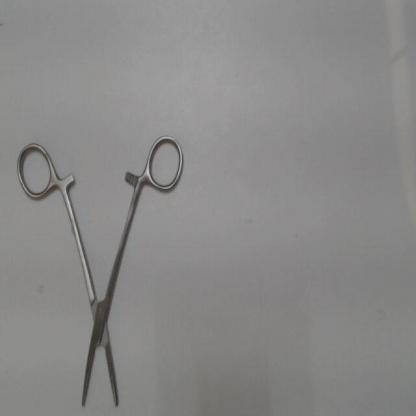Mayo Needle Holder: (13, 130, 188, 413)
